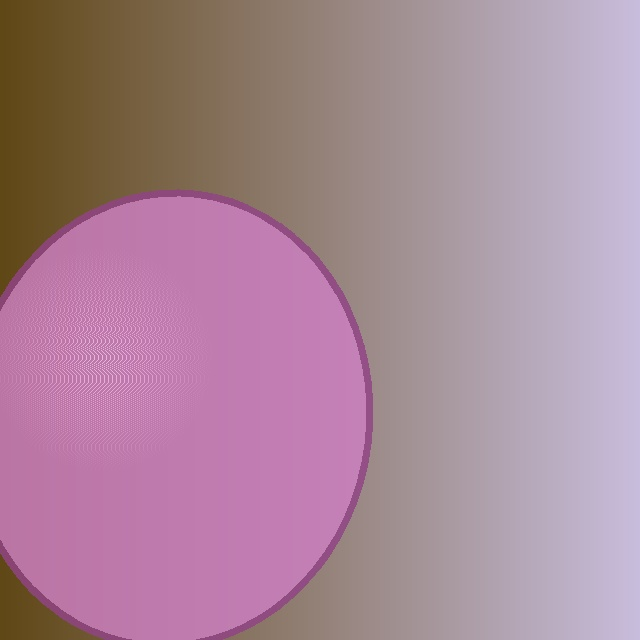lens: (0, 194, 368, 640)
